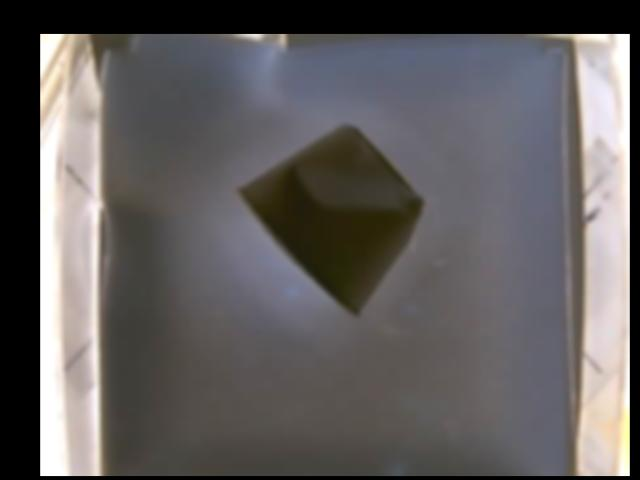Cup: (235, 122, 422, 318)
